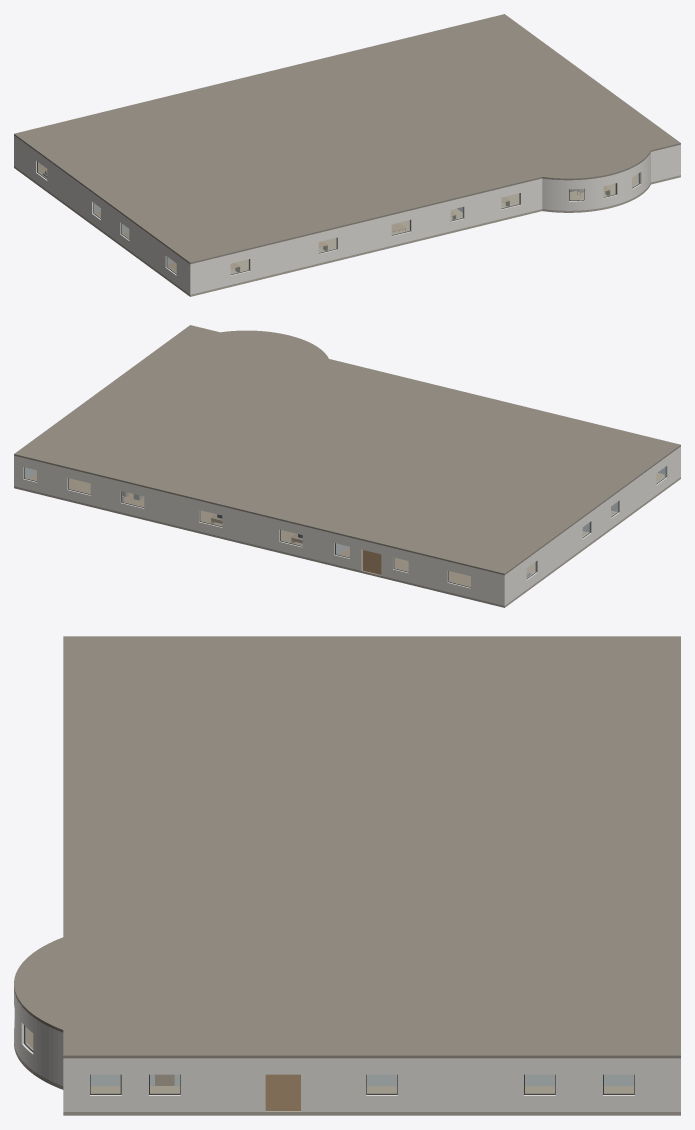
The model's file is plan.glb.
The picture shows the model from 3 angles, top to bottom: view 1: azimuth 30°, elevation 25°; view 2: azimuth 150°, elevation 25°; view 3: azimuth 270°, elevation 25°; orthographic projection. The views are drawn at different scales.
Visible parts, largest first — view 1: roof:roof, wall:w_south_w, wall:w_west, wall:w_oval, slab:slab, wall:w_south_e; view 2: roof:roof, wall:w_north, wall:w_west, slab:slab; view 3: roof:roof, wall:w_east, slab:slab, wall:w_oval, door:d_rose, floor:r_colonnade, wall:vCol_n.
Boxes of the visible parts, <box> form: roof:roof: <box>14,14,680,264</box>; wall:w_south_w: <box>188,178,542,294</box>; wall:w_west: <box>15,137,188,293</box>; wall:w_oval: <box>542,152,650,210</box>; slab:slab: <box>14,166,680,296</box>; wall:w_south_e: <box>651,145,677,182</box>; roof:roof: <box>14,325,680,575</box>; wall:w_north: <box>14,455,506,605</box>; wall:w_west: <box>506,448,679,604</box>; slab:slab: <box>14,477,680,607</box>; roof:roof: <box>14,636,680,1058</box>; wall:w_east: <box>63,1058,674,1111</box>; slab:slab: <box>14,1043,680,1115</box>; wall:w_oval: <box>14,989,63,1085</box>; door:d_rose: <box>265,1074,300,1110</box>; floor:r_colonnade: <box>90,1086,633,1093</box>; wall:vCol_n: <box>525,1074,633,1086</box>.
Bounding box in the file's own units: 50.3 × 3.35 × 33.8.
